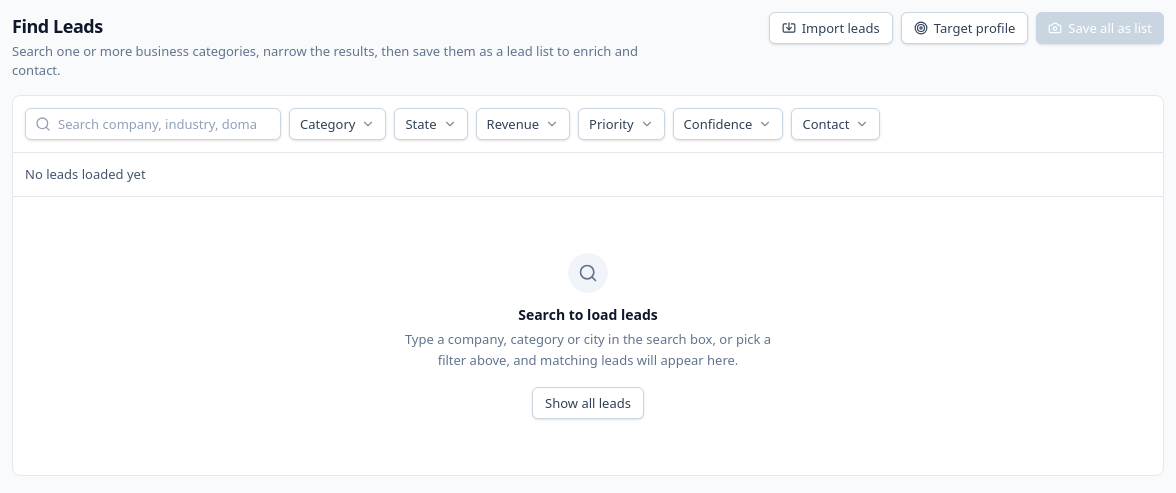
Test: FindLeadsPage › returns to the empty prompt when the search is cleared
This screenshot has width=1176, height=493.
Type "alpha" into the search field named "Search leads" at (153, 124), box left=25, top=108, right=281, bottom=140
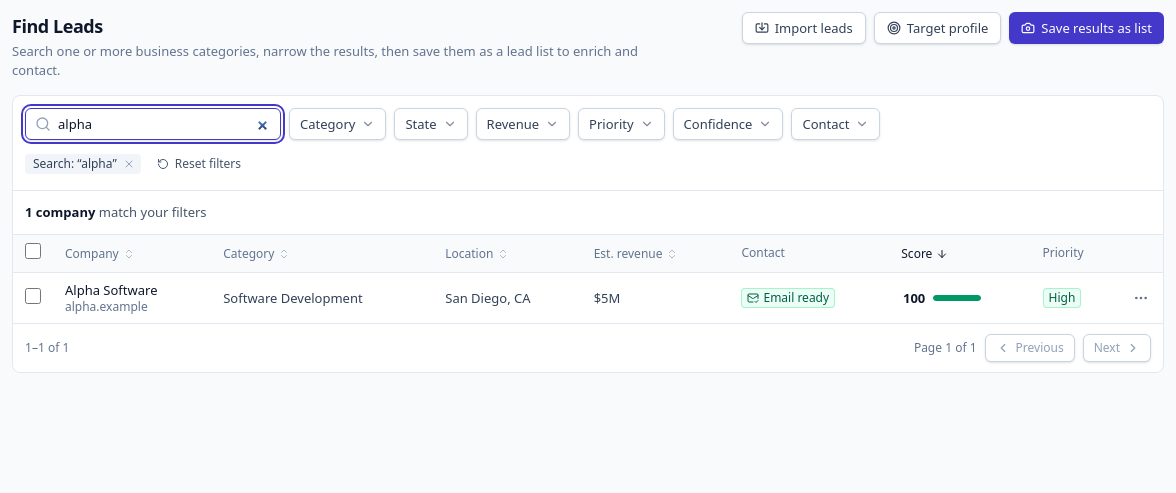
expect the button "Alpha Software" is shown: met, box left=65, top=281, right=158, bottom=299
Clear the search field named "Search leads" at (153, 124), box left=25, top=108, right=281, bottom=140
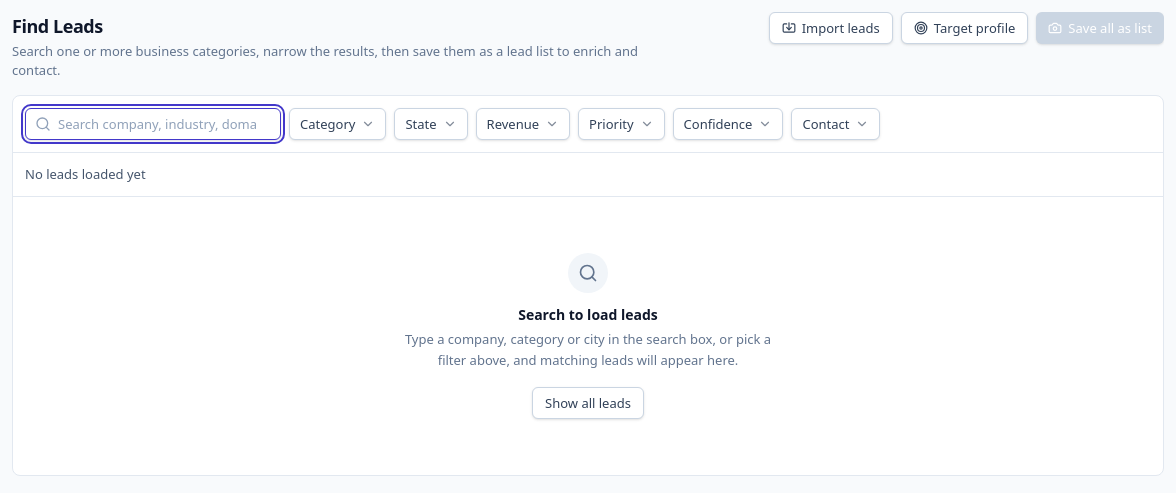
expect the heading "Search to load leads" is shown: met, box left=518, top=305, right=658, bottom=325
expect the table is gone: met
